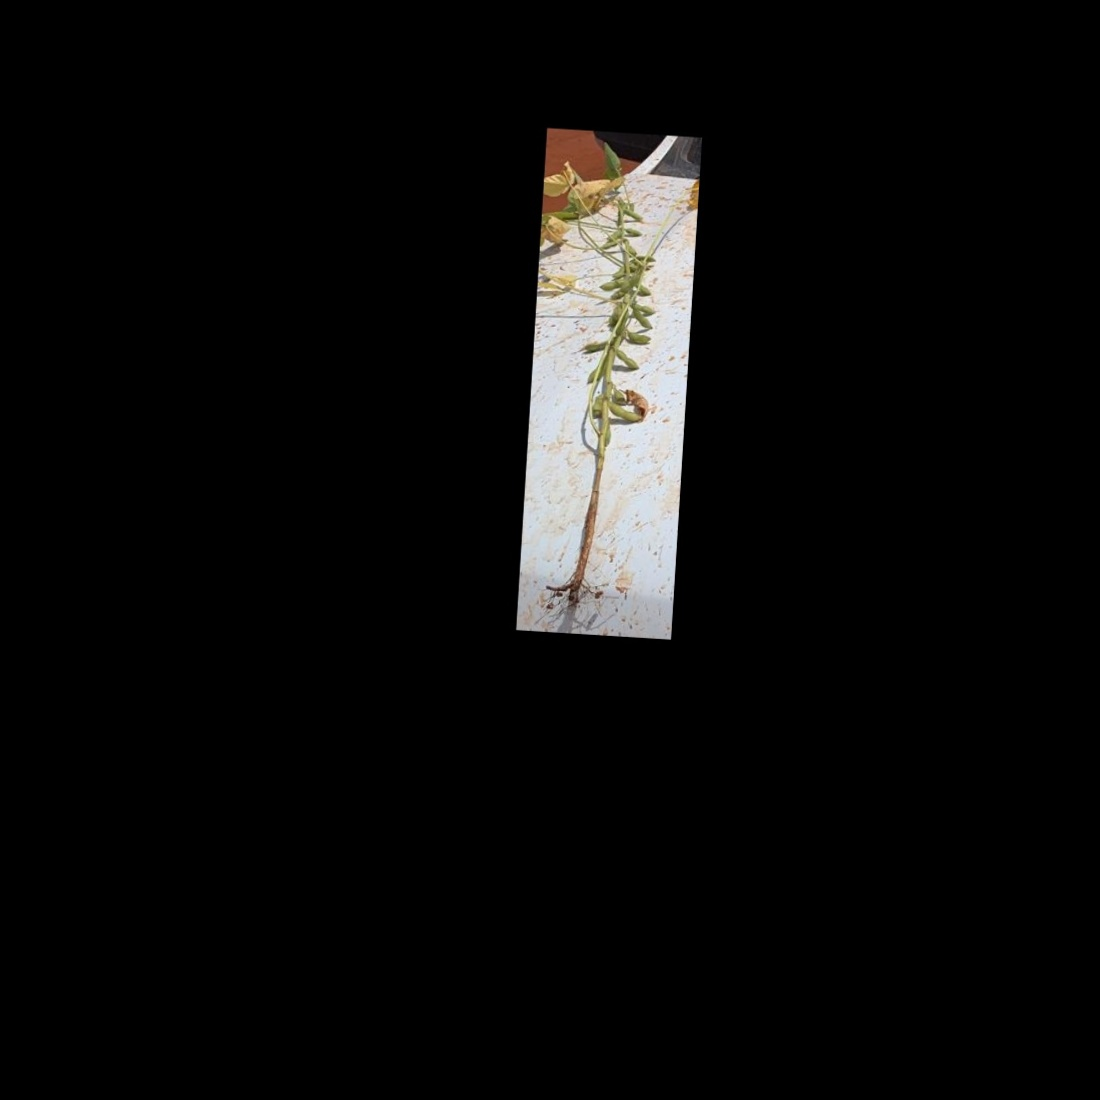pod: (599, 400, 648, 424), (612, 347, 642, 371), (621, 328, 655, 347), (596, 277, 624, 294), (629, 302, 658, 317), (621, 225, 645, 238)
soy: (532, 177, 678, 603)
